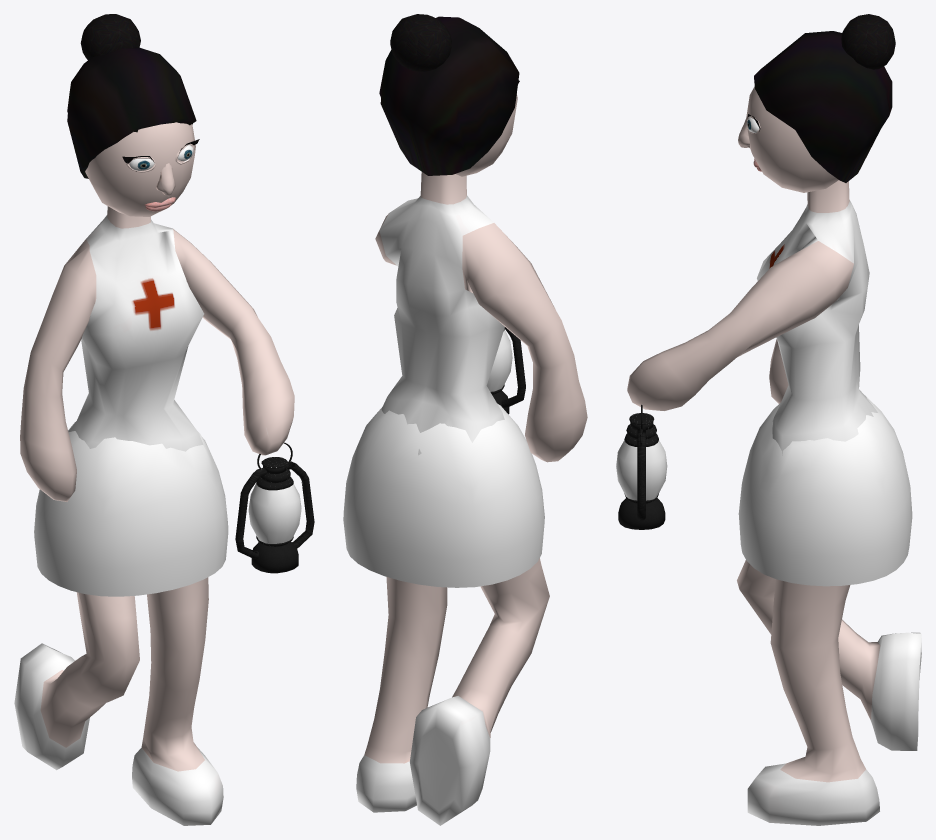
File: walking_000006.obj
3 renders of one model, left to right at view 1: azimuth 30°, elevation 25°; view 2: azimuth 150°, elevation 25°; view 3: azimuth 270°, elevation 25°, orthographic. The views are drawn at different scales.
Parts seen in each view (by area): view 1: Cube_Cube.001, Cube.001_Cube, Cube.004; view 2: Cube_Cube.001, Cube.001_Cube, Cube.004; view 3: Cube_Cube.001, Cube.001_Cube, Cube.004.
Boxes of the visible parts, x1=… form: Cube_Cube.001: x1=14, y1=14, x2=294, y2=825; Cube.001_Cube: x1=34, y1=422, x2=228, y2=596; Cube.004: x1=235, y1=442, x2=314, y2=573; Cube_Cube.001: x1=356, y1=14, x2=587, y2=825; Cube.001_Cube: x1=343, y1=403, x2=544, y2=587; Cube.004: x1=486, y1=327, x2=525, y2=414; Cube_Cube.001: x1=627, y1=14, x2=921, y2=825; Cube.001_Cube: x1=738, y1=395, x2=912, y2=586; Cube.004: x1=616, y1=404, x2=667, y2=529.
Bounding box in the file's own units: 0.5897 × 2.08 × 0.7414.
